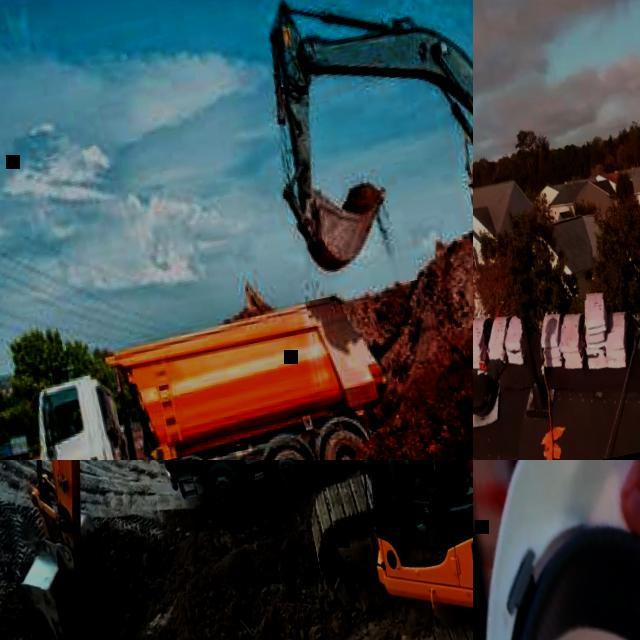helmet: (473, 460, 640, 640)
vest: (457, 460, 473, 487)
